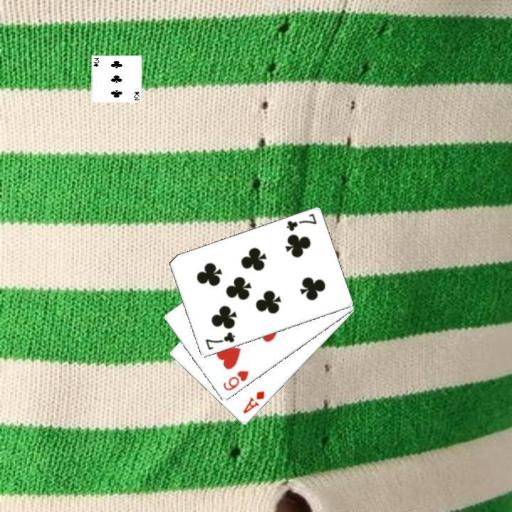6H: (220, 368, 250, 393)
7C: (283, 211, 318, 233), (202, 330, 236, 352)
AD: (240, 389, 266, 416)
